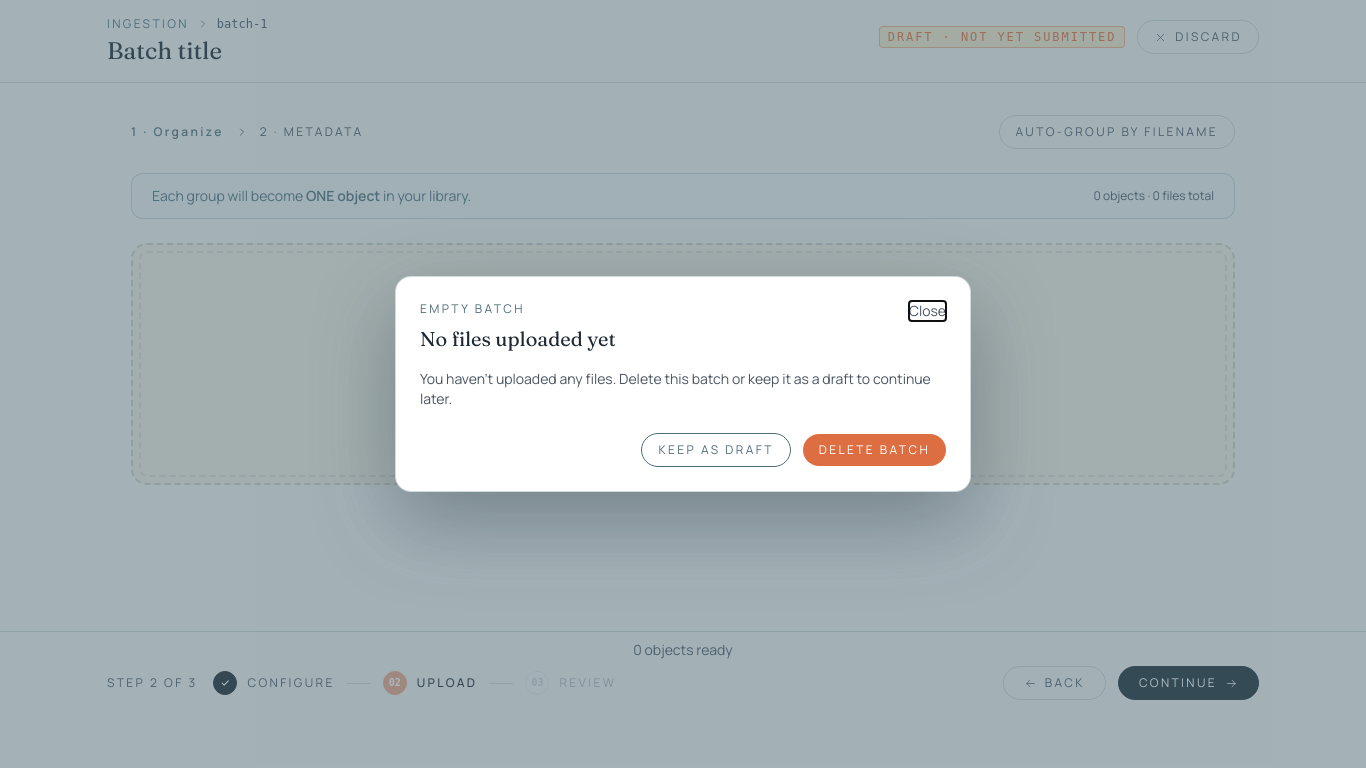
it: /ingestion/[batchId]/setup +page.svelte › keeps the deletion dialog open after a backend rejection
Click the button "Delete batch". click: (874, 450)
box: [803,434,946,466]
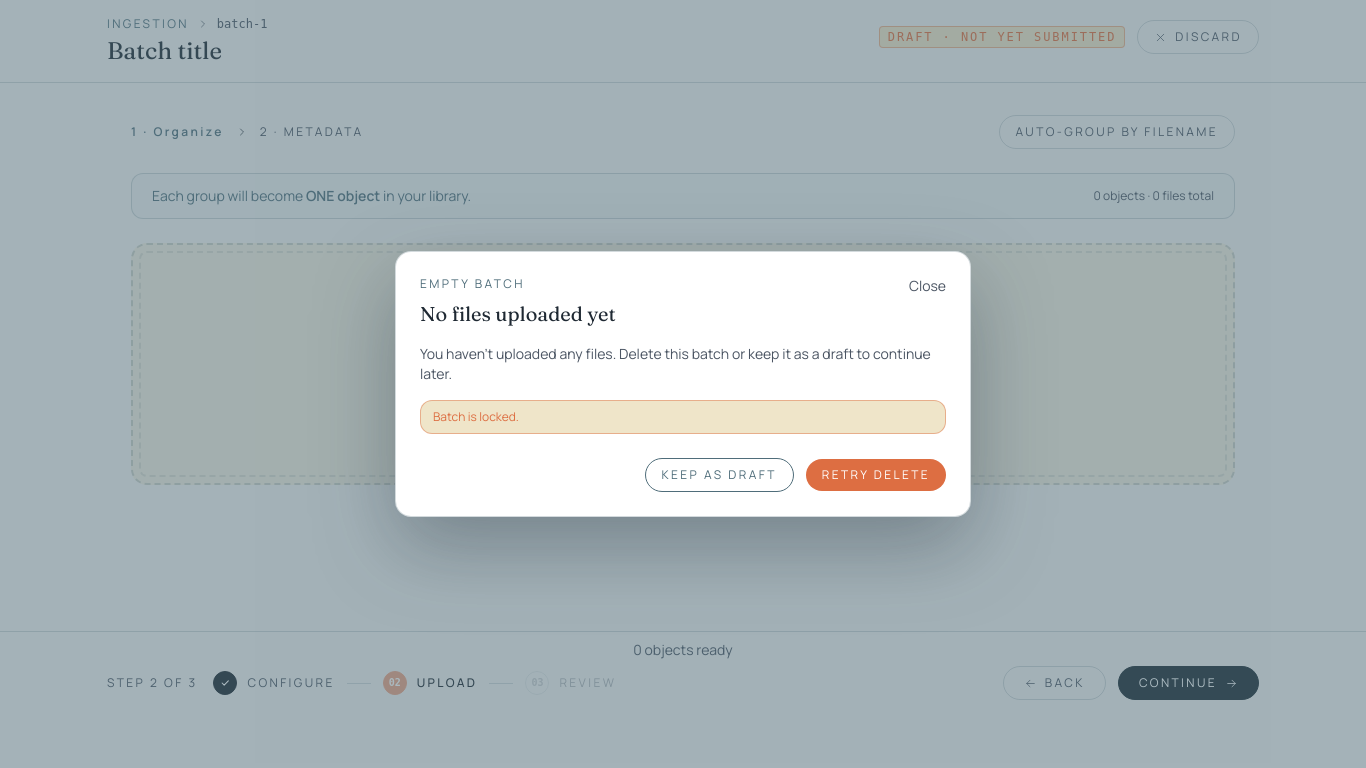
Expected: the message reads "Batch is locked.", [433,408,519,425]
Expected: the button "Retry delete" is shown, [806,459,946,491]
